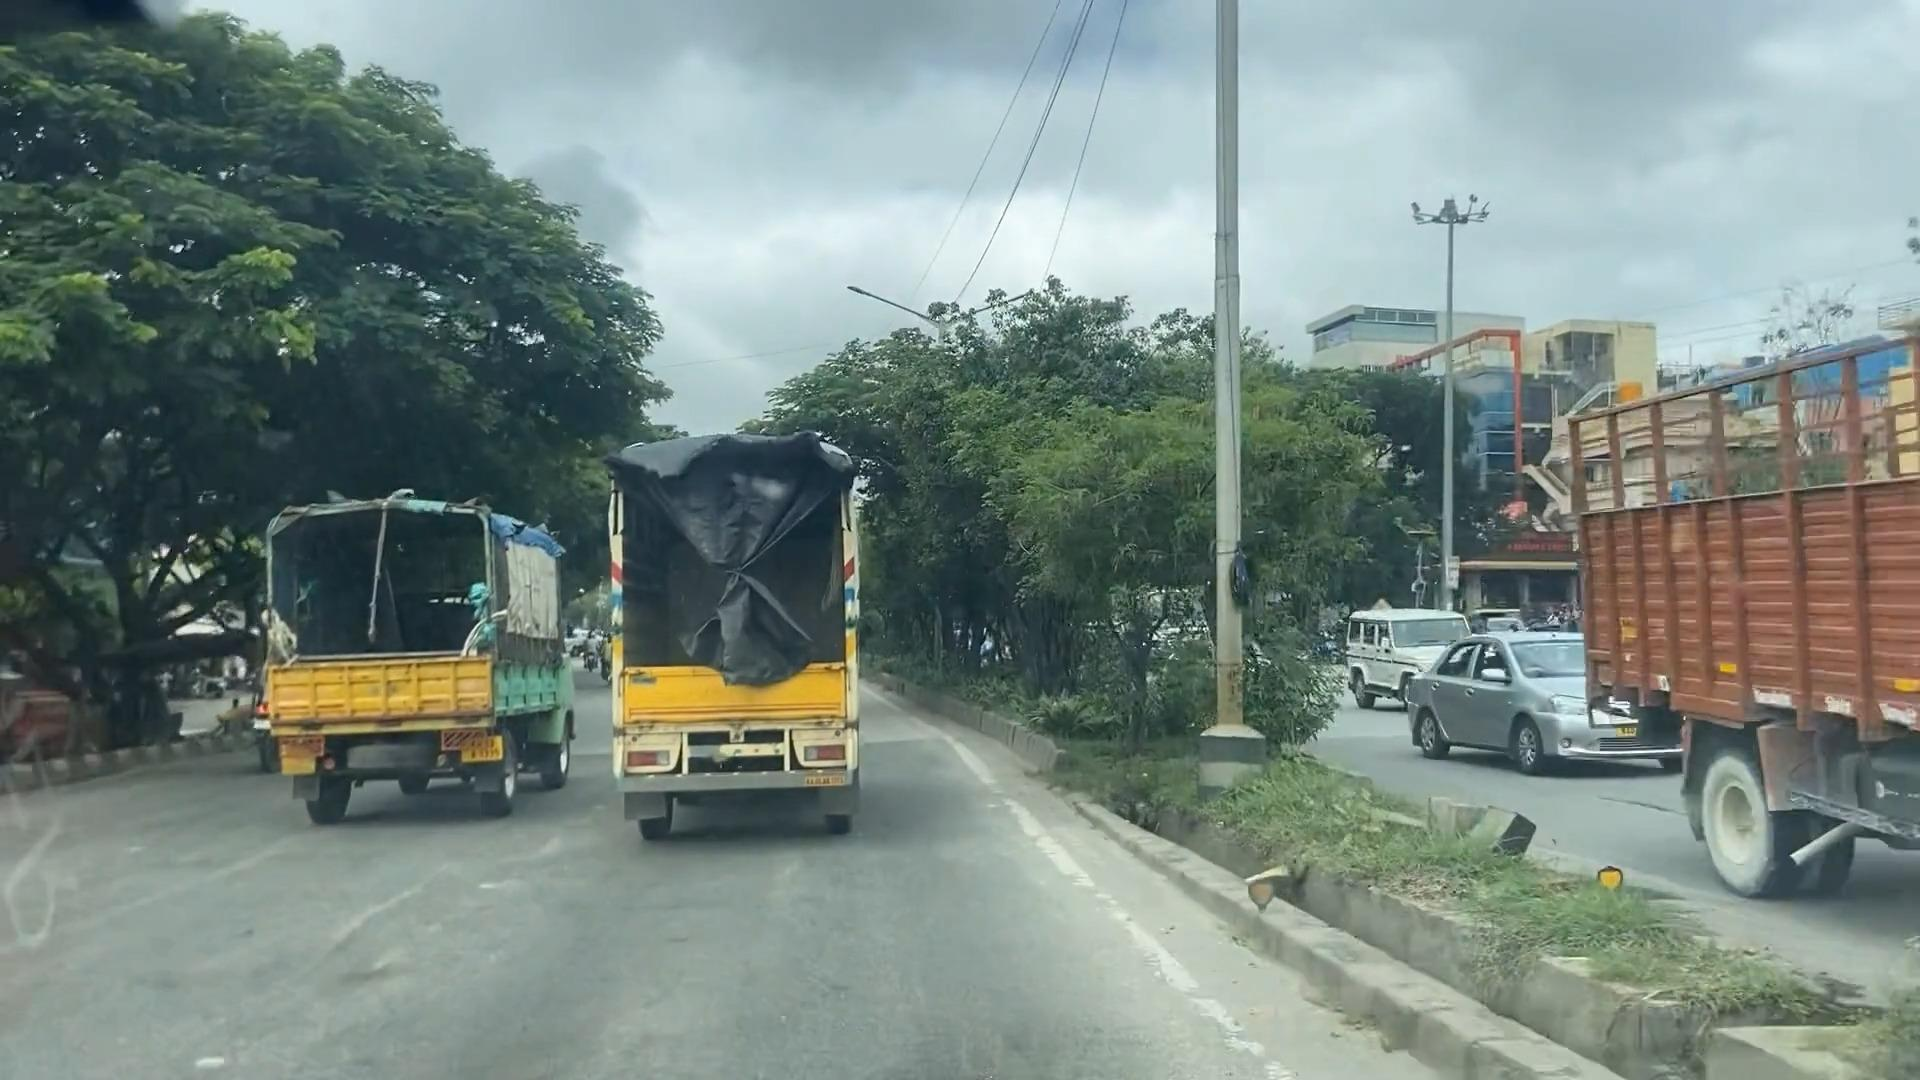HMV: (1552, 363, 1920, 894), (535, 375, 880, 899), (265, 492, 575, 825)
